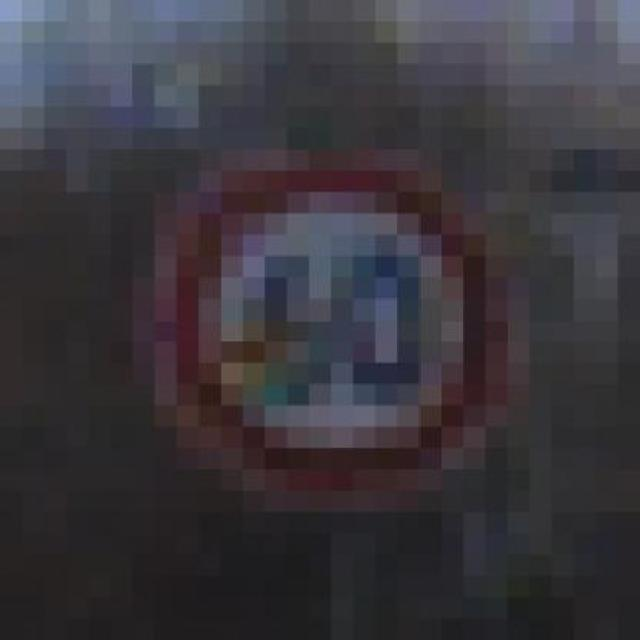forb_speed_over_60: (186, 173, 491, 475)
